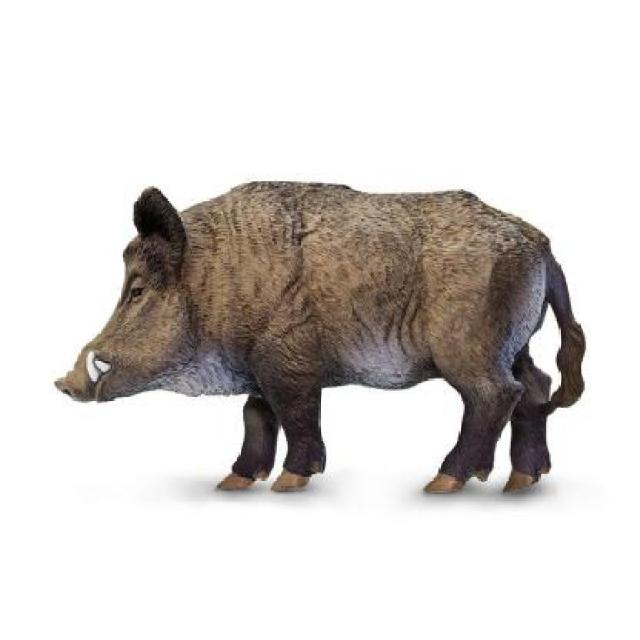Wild Boar: (47, 178, 587, 498)
